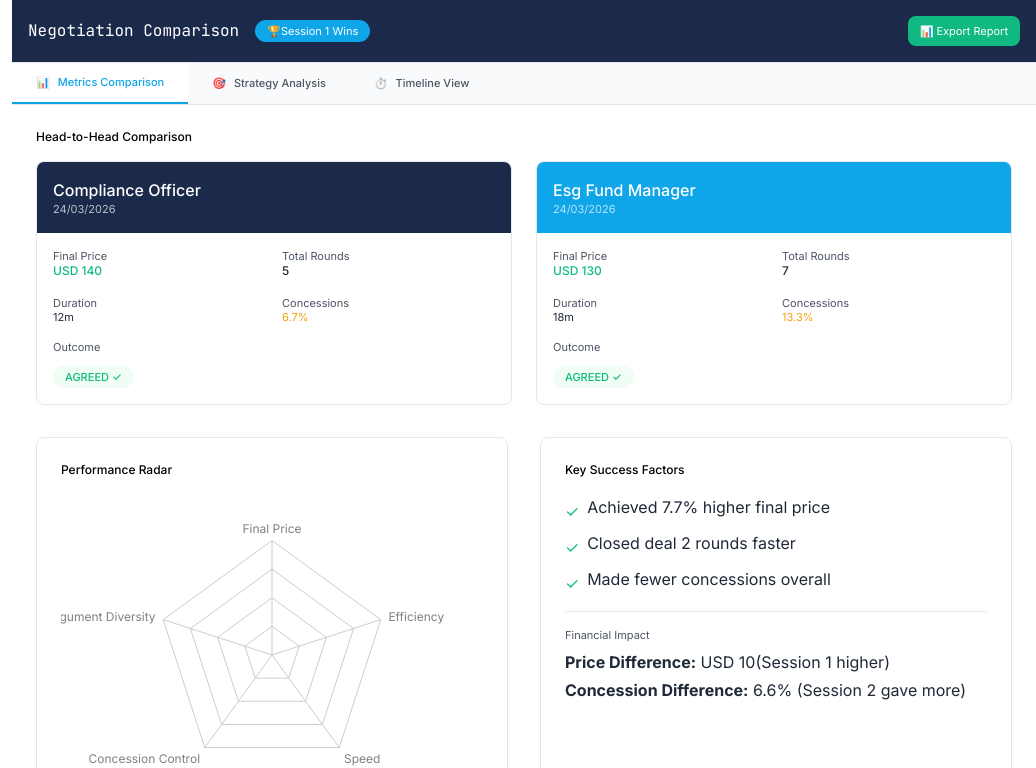
ComparisonDashboard › Tab Navigation › switches to timeline tab
The image size is (1036, 768).
What coordinates should you click on to do the following:
click the button "⏱️ Timeline View"
I would click on:
 (422, 83)
Its box is left=350, top=63, right=493, bottom=104.
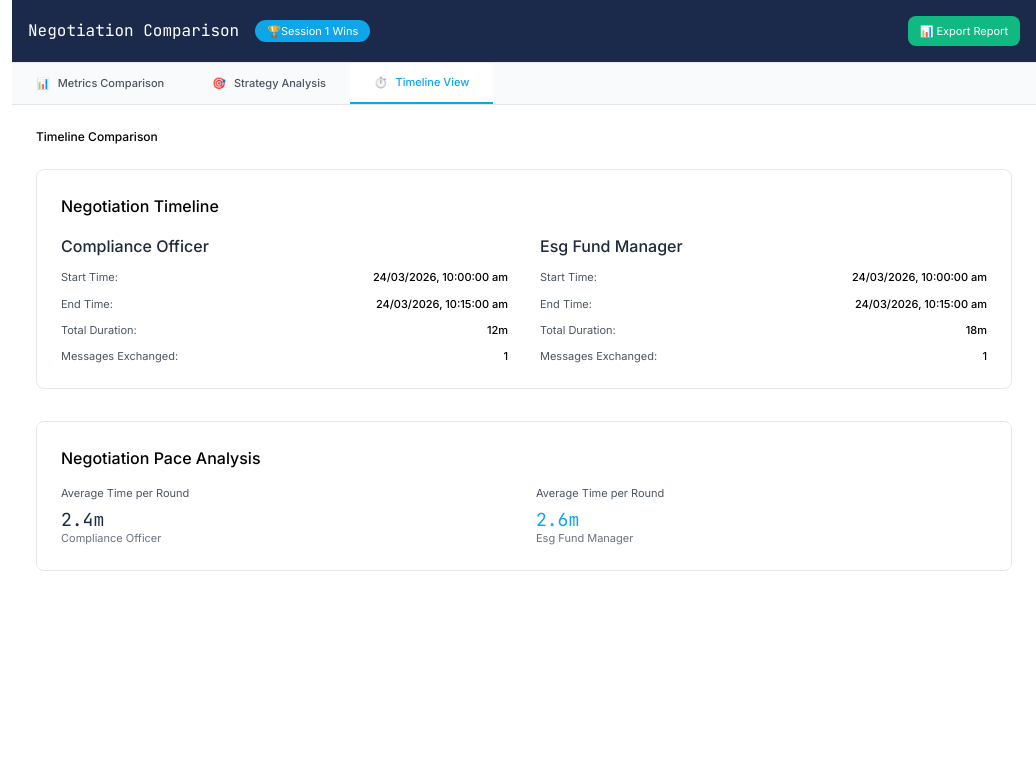
Expected: the heading "Timeline Comparison" is shown, left=36, top=129, right=158, bottom=144
Expected: the heading "Negotiation Timeline" is shown, left=61, top=196, right=219, bottom=216
